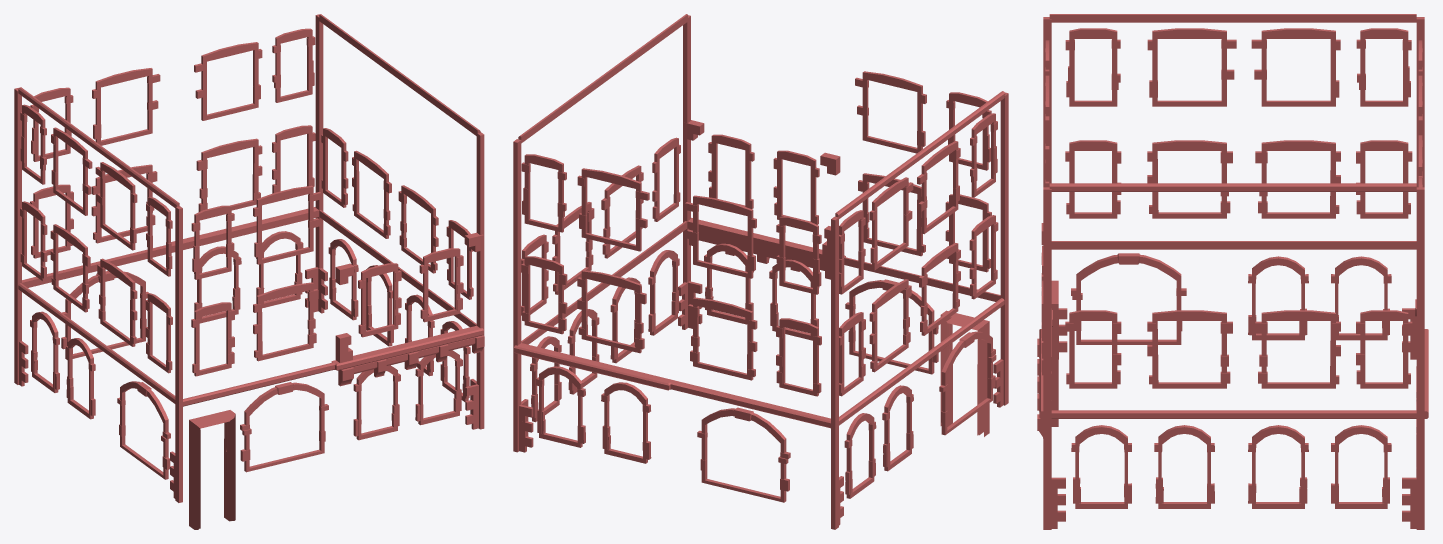
The model's file is FairyTale164.gltf.
The picture shows the model from 3 angles, left to right: view 1: azimuth 30°, elevation 25°; view 2: azimuth 150°, elevation 25°; view 3: azimuth 270°, elevation 25°; orthographic projection. The views are drawn at different scales.
Visible parts, largest first — view 1: HouseMD03_PlasterBrown; view 2: HouseMD03_PlasterBrown; view 3: HouseMD03_PlasterBrown.
Boxes of the visible parts, x1,y1,x2,y2 form: HouseMD03_PlasterBrown: [14, 14, 484, 529]; HouseMD03_PlasterBrown: [513, 14, 1008, 529]; HouseMD03_PlasterBrown: [1037, 14, 1428, 529].
Size of the model in its own units: 9.93 by 10.19 by 9.48.
